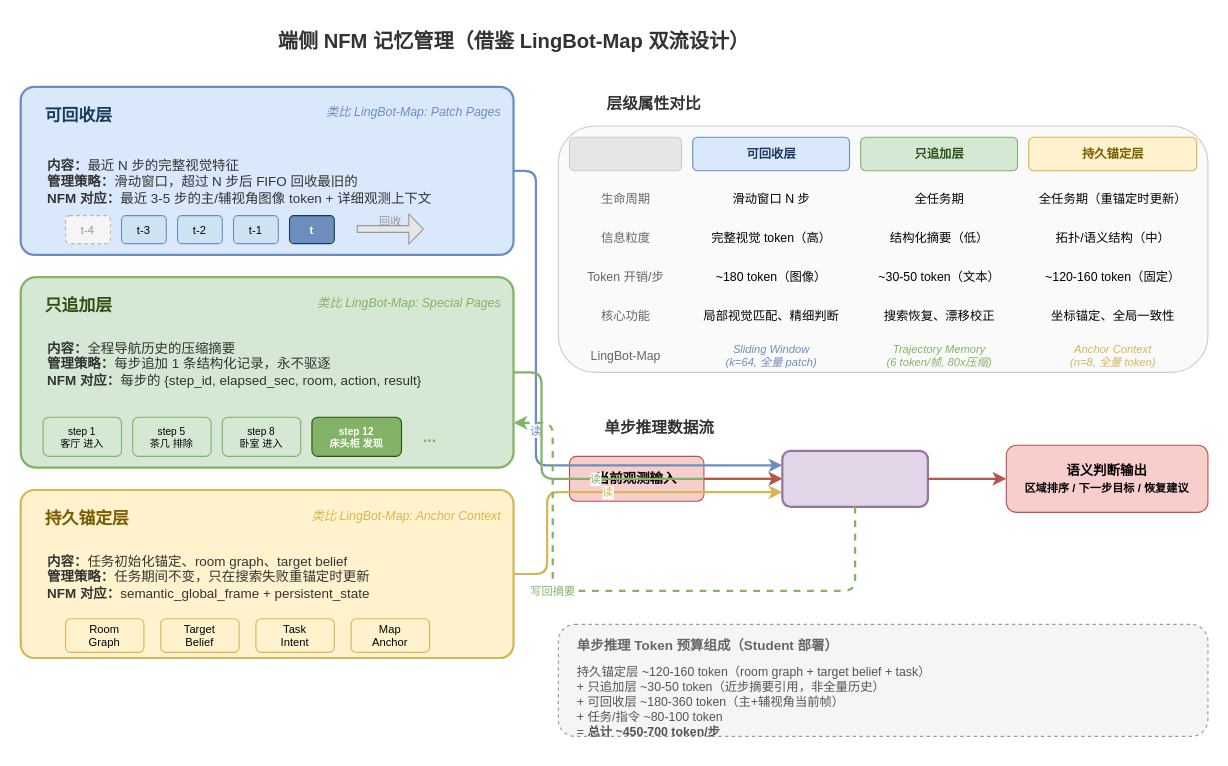
This 1228x766 diagram has some shape labels left out. The shapes that lost their labels are listed below. From the top down, each one's centre as x and y in pixels, then its label:
At (x=625, y=153): "属性".
At (x=854, y=478): "端侧 NFM (4B VLM)".
